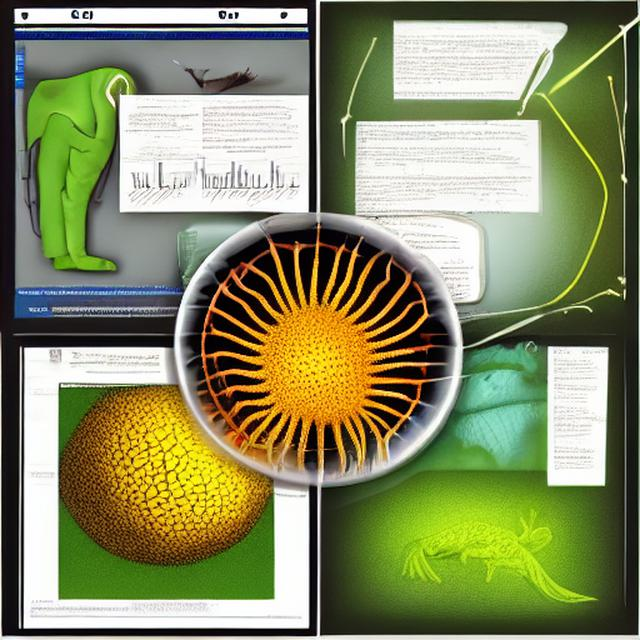Graph: (189, 141, 304, 209)
